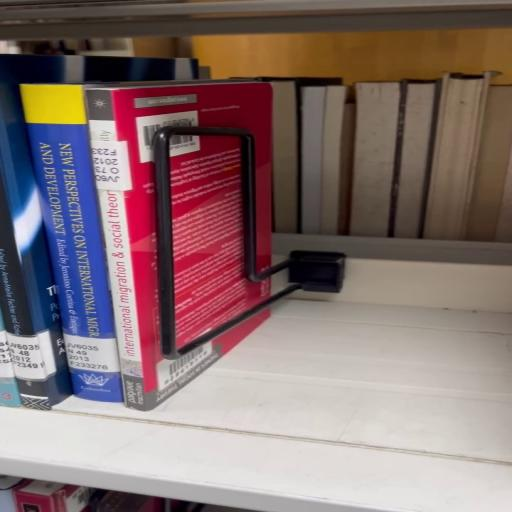reverse: (86, 82, 272, 410)
